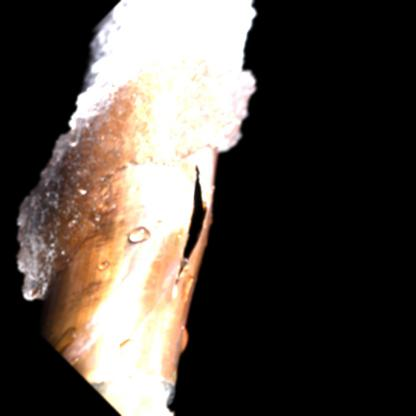burst: (153, 145, 254, 275)
